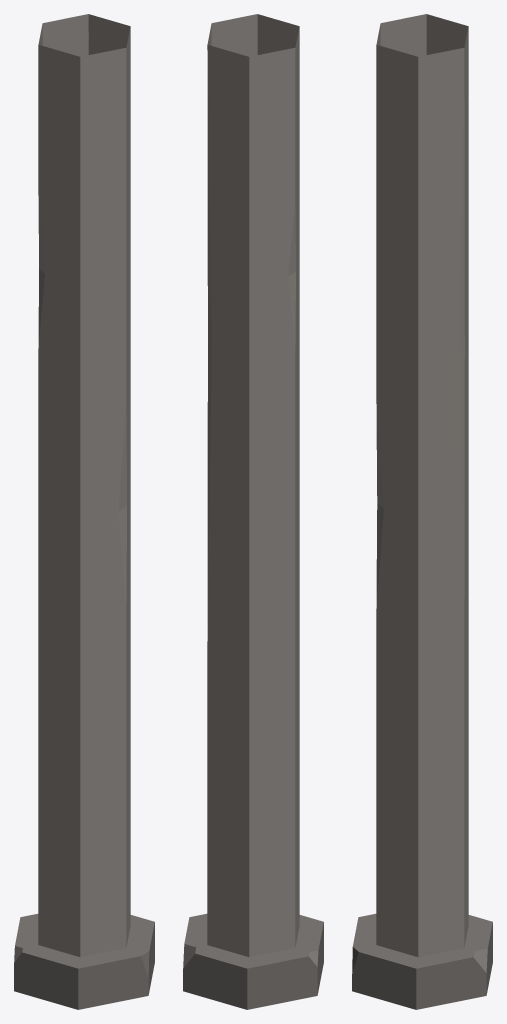
Rendered from SM_Env_Pillar_01.fbx.
3 renders of one model, left to right at view 1: azimuth 30°, elevation 25°; view 2: azimuth 150°, elevation 25°; view 3: azimuth 270°, elevation 25°, orthographic.
Visible parts, largest first — view 1: SM_Env_Pillar_01; view 2: SM_Env_Pillar_01; view 3: SM_Env_Pillar_01.
Boxes of the visible parts, left/top/right/bottom form: SM_Env_Pillar_01: left=14, top=14, right=154, bottom=1009; SM_Env_Pillar_01: left=183, top=14, right=323, bottom=1009; SM_Env_Pillar_01: left=352, top=14, right=492, bottom=1009.
Size of the model in its own units: 31.36 by 210 by 28.42.
Materials: 1 (1 with a texture image).
